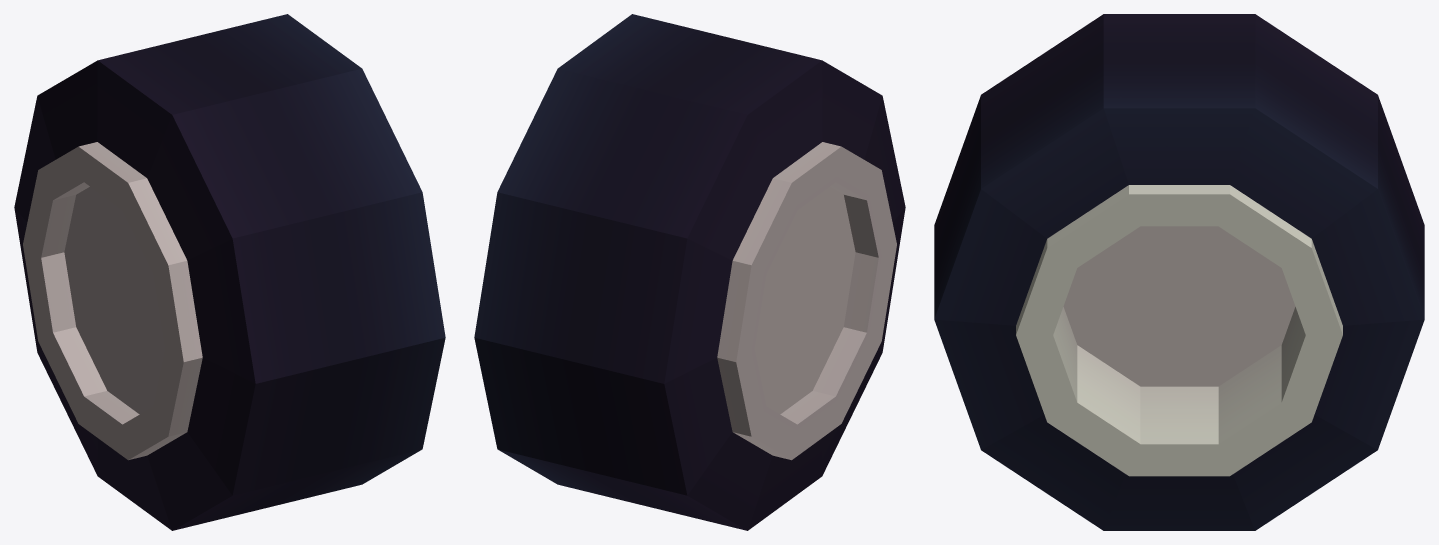
The model's file is Model_car_wheel_small.gltf.
3 views of the same model, side by side, from view 1: azimuth 30°, elevation 25°; view 2: azimuth 150°, elevation 25°; view 3: azimuth 270°, elevation 25° (orthographic).
Visible parts, largest first — view 1: Model_car_wheel_small; view 2: Model_car_wheel_small; view 3: Model_car_wheel_small.
Part boxes in pixels (x1=…): Model_car_wheel_small: x1=14, y1=14, x2=445, y2=530; Model_car_wheel_small: x1=474, y1=14, x2=905, y2=530; Model_car_wheel_small: x1=934, y1=14, x2=1424, y2=530.
Bounding box in the file's own units: 0.4 × 0.6277 × 0.66.
1 material, 1 textured.
